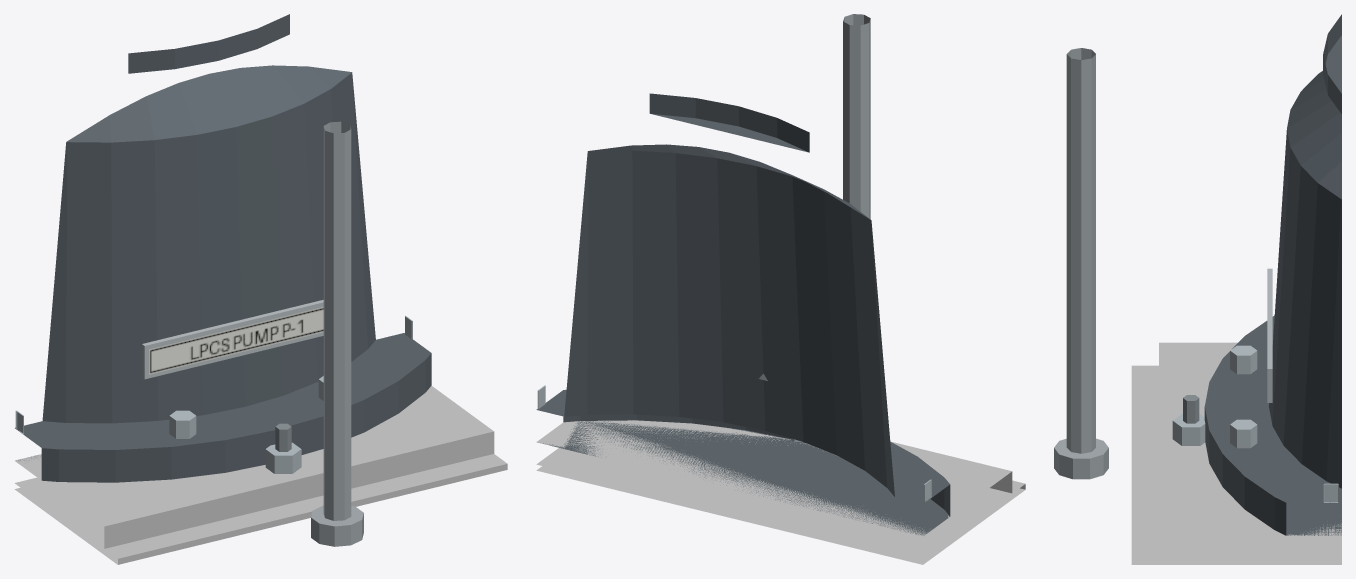
The model's file is cell_12.obj.
3 renders of one model, left to right at view 1: azimuth 30°, elevation 25°; view 2: azimuth 150°, elevation 25°; view 3: azimuth 270°, elevation 25°, orthographic. The views are drawn at different scales.
Bounding box in the file's own units: 1 × 1 × 0.6298.
